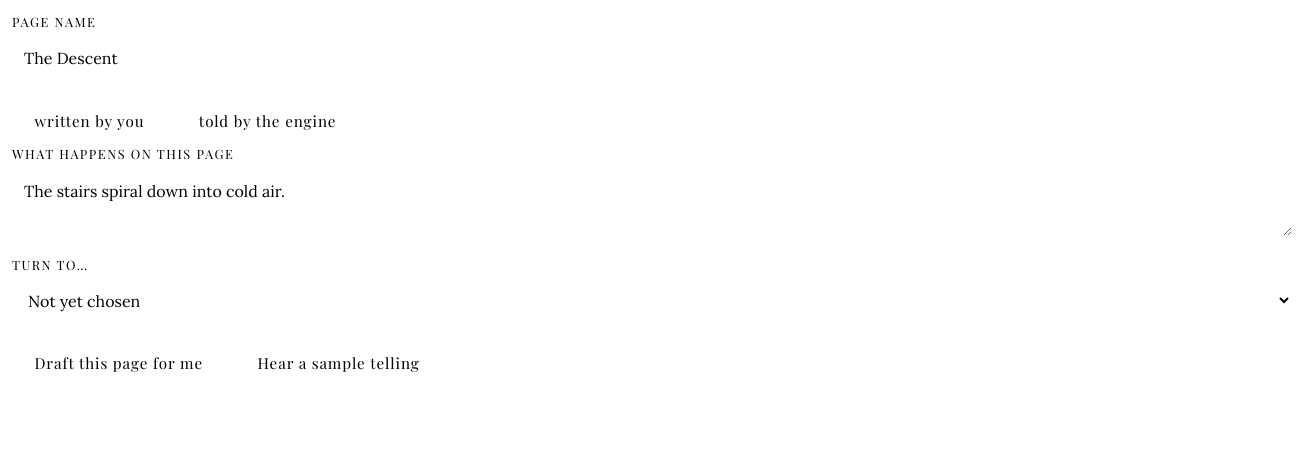
Scenario: PageCard › renders a resolved sample telling into the document
Click the button "Hear a sample telling". click: (338, 363)
box: [235, 341, 442, 386]
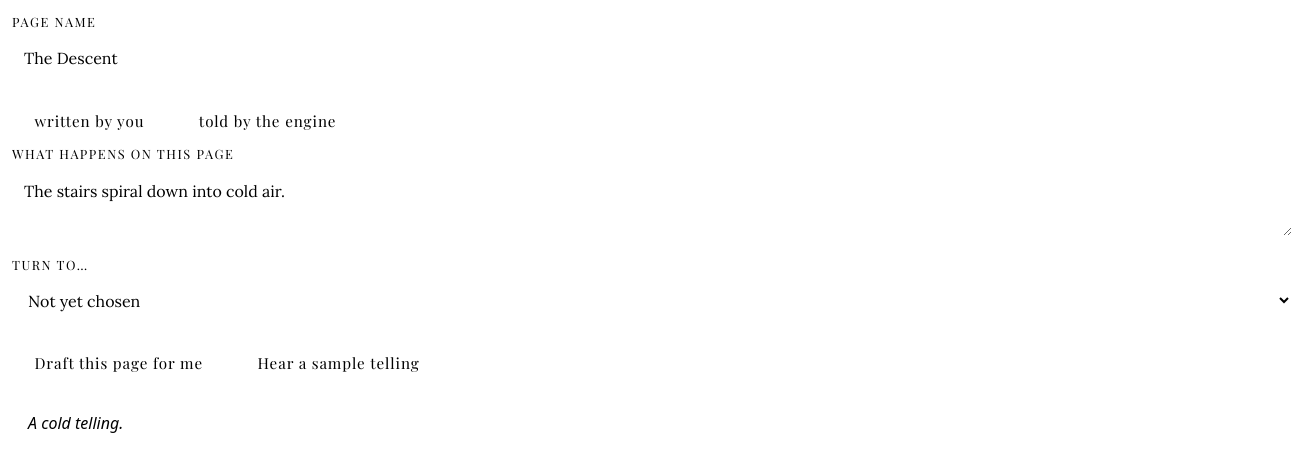
Expected: the text "A cold telling." is shown, [28, 412, 123, 434]
